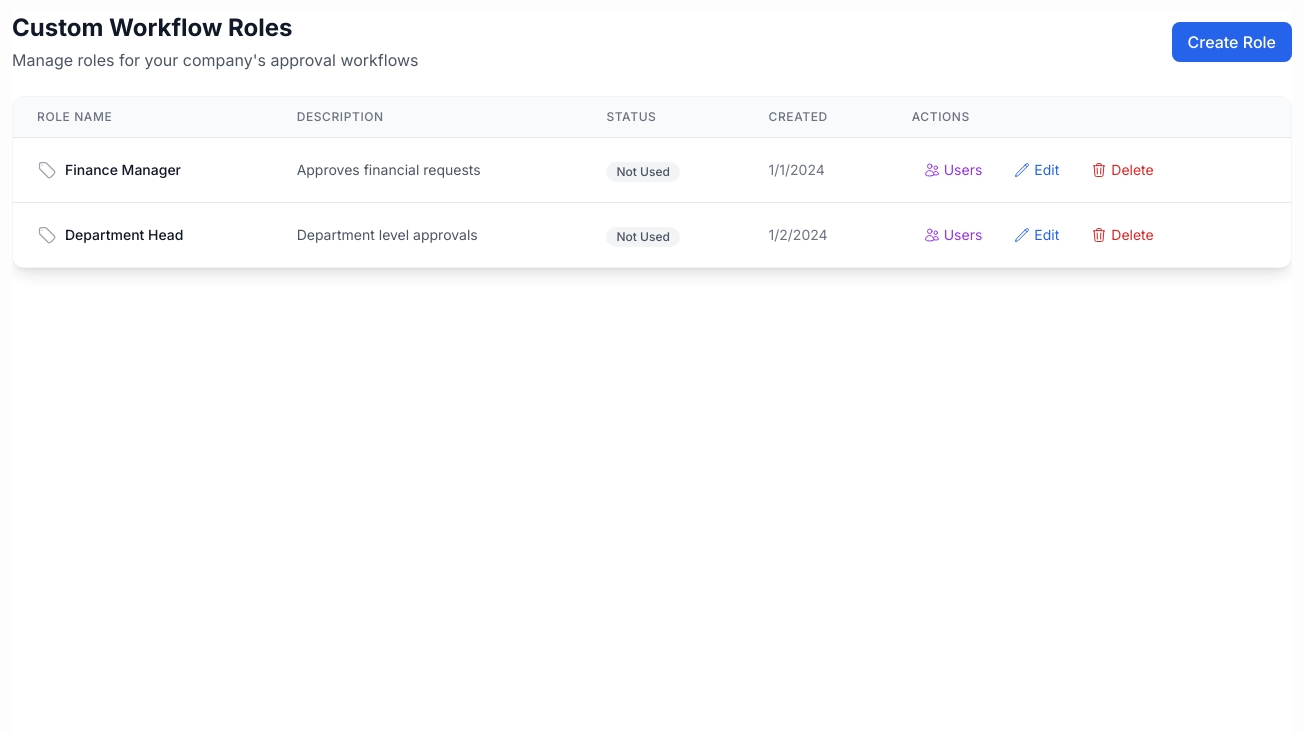
Scenario: RoleManagement - Role Edit Functionality › Form Validation › should show error when submitting empty name
This screenshot has width=1304, height=732.
expect the text "Finance Manager" is shown: met, box [65,160,181,180]
Click the button "Edit" in the row of "Finance Manager" at (1037, 170), box [1002,154,1071,186]
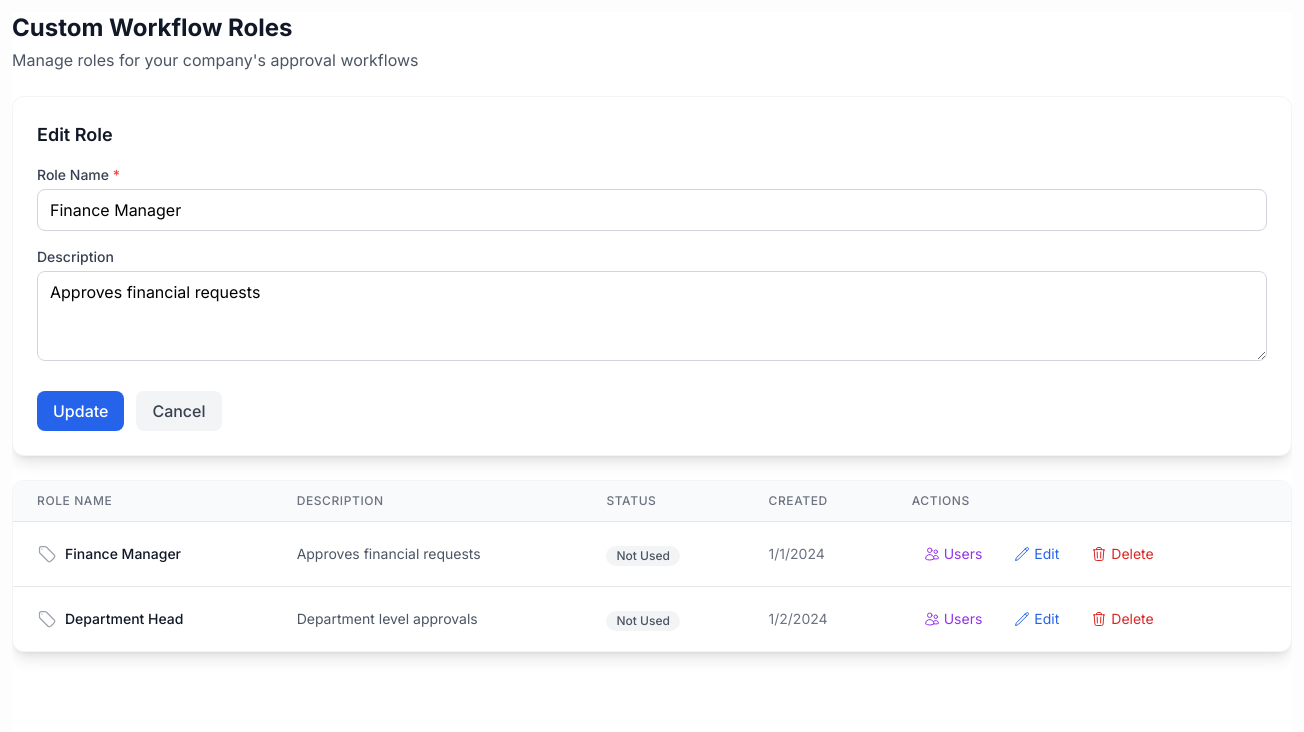
Clear the field labelled "Role Name *" at (652, 210), box [37,189,1267,231]
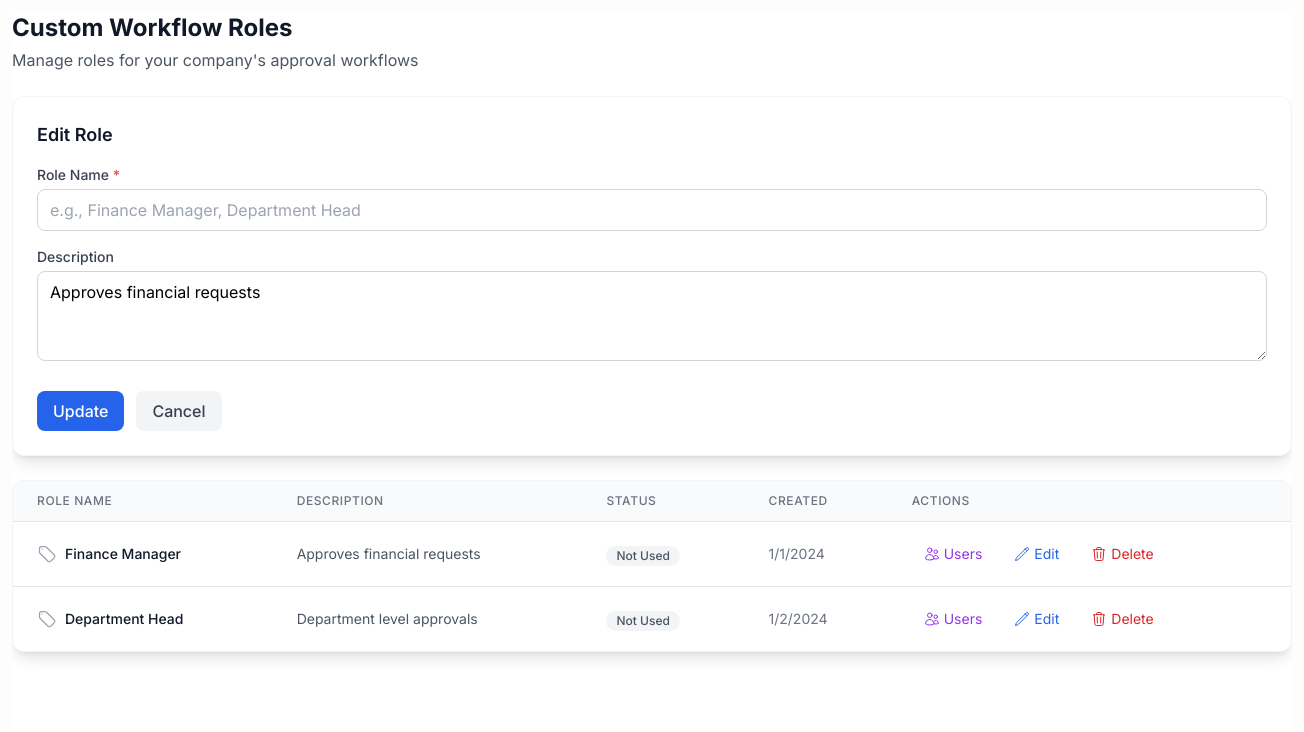
Click the button "Update" at (81, 411), box [37,391,124,431]
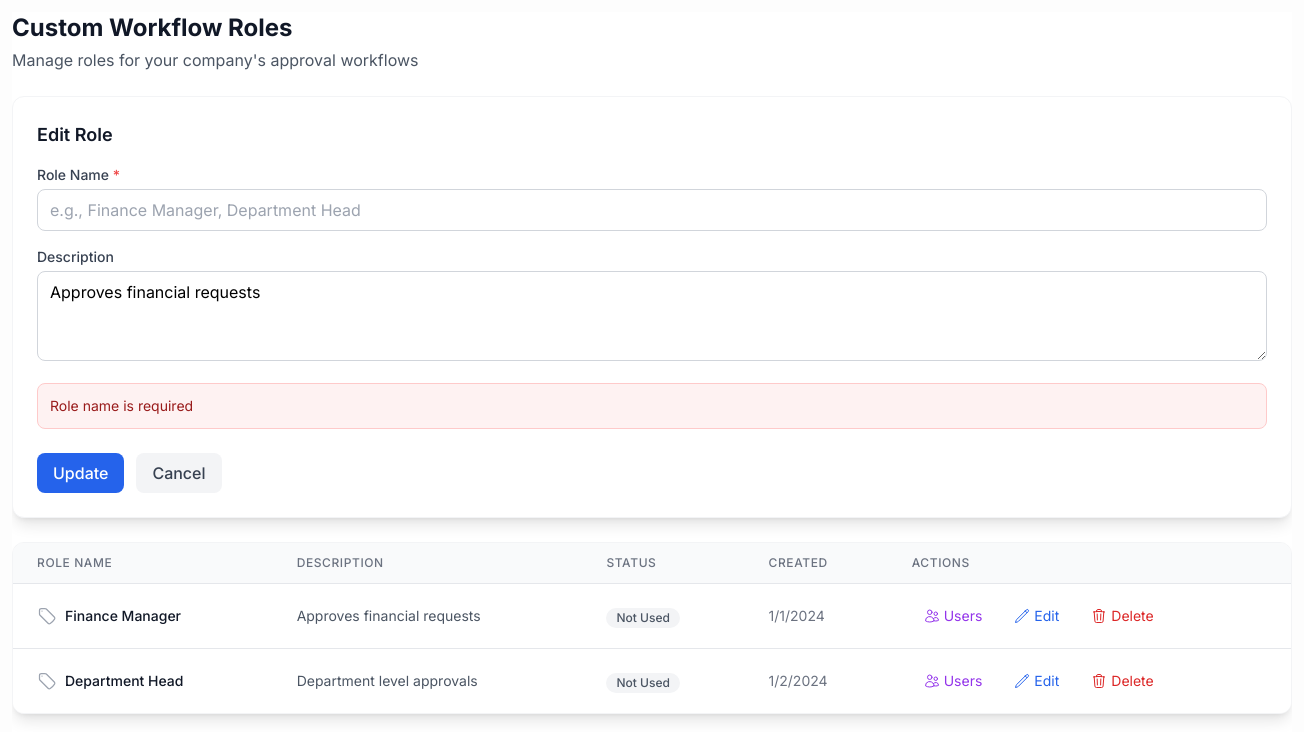
expect the text "Role name is required" is shown: met, box [50,397,193,414]
